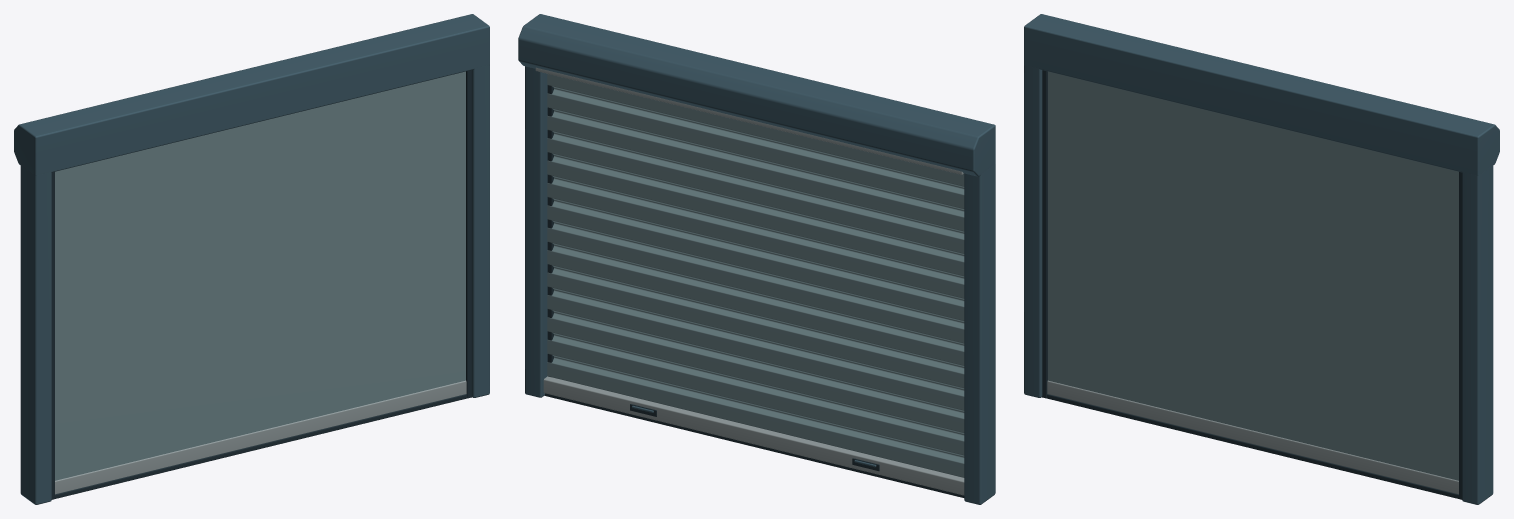
Rendered from city_shop_fittings_04.glb.
3 renders of one model, left to right at view 1: azimuth 30°, elevation 25°; view 2: azimuth 150°, elevation 25°; view 3: azimuth 330°, elevation 25°, orthographic.
Parts seen in each view (by area): view 1: CityShopFittings04_Mesh; view 2: CityShopFittings04_Mesh; view 3: CityShopFittings04_Mesh.
Part boxes in pixels (x1=…): CityShopFittings04_Mesh: x1=14, y1=14, x2=489, y2=504; CityShopFittings04_Mesh: x1=518, y1=14, x2=995, y2=504; CityShopFittings04_Mesh: x1=1024, y1=14, x2=1499, y2=504.
Bounding box in the file's own units: 3.2 × 2.48 × 0.27.
